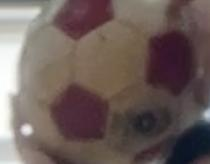Sports-Ball: (19, 2, 202, 148)
